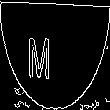M_N: (43, 29, 67, 81)
